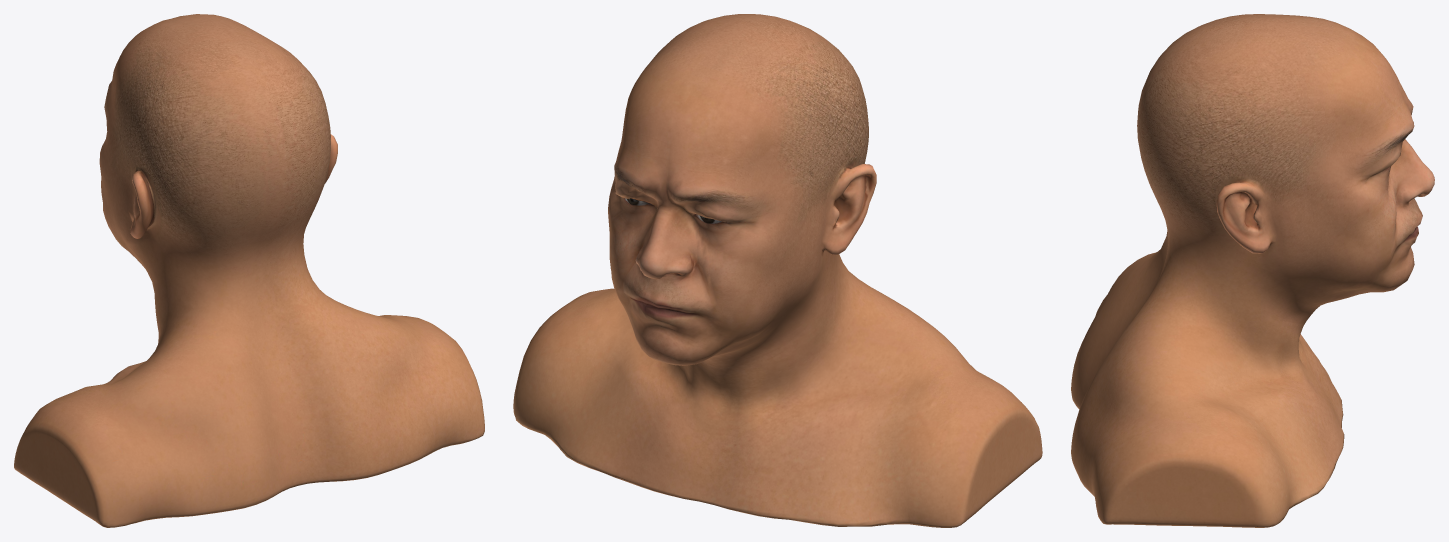
The model's file is Model_HairHead_TaniHisao.glb.
The picture shows the model from 3 angles, left to right: view 1: azimuth 30°, elevation 25°; view 2: azimuth 150°, elevation 25°; view 3: azimuth 270°, elevation 25°; orthographic projection. The views are drawn at different scales.
Parts seen in each view (by area): view 1: HairHead_TaniHisao; view 2: HairHead_TaniHisao; view 3: HairHead_TaniHisao.
Part boxes in pixels (<box>): HairHead_TaniHisao: <box>14,14,484,527</box>; HairHead_TaniHisao: <box>513,14,1042,527</box>; HairHead_TaniHisao: <box>1071,14,1434,527</box>.
Size of the model in its own units: 0.4009 by 0.3745 by 0.3039.
Materials: 1 (1 with a texture image).
